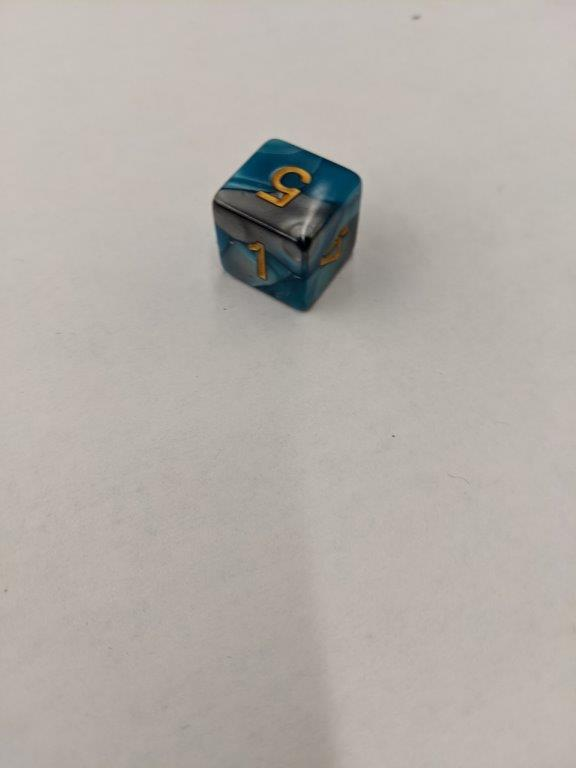d6-5: (211, 138, 365, 314)
